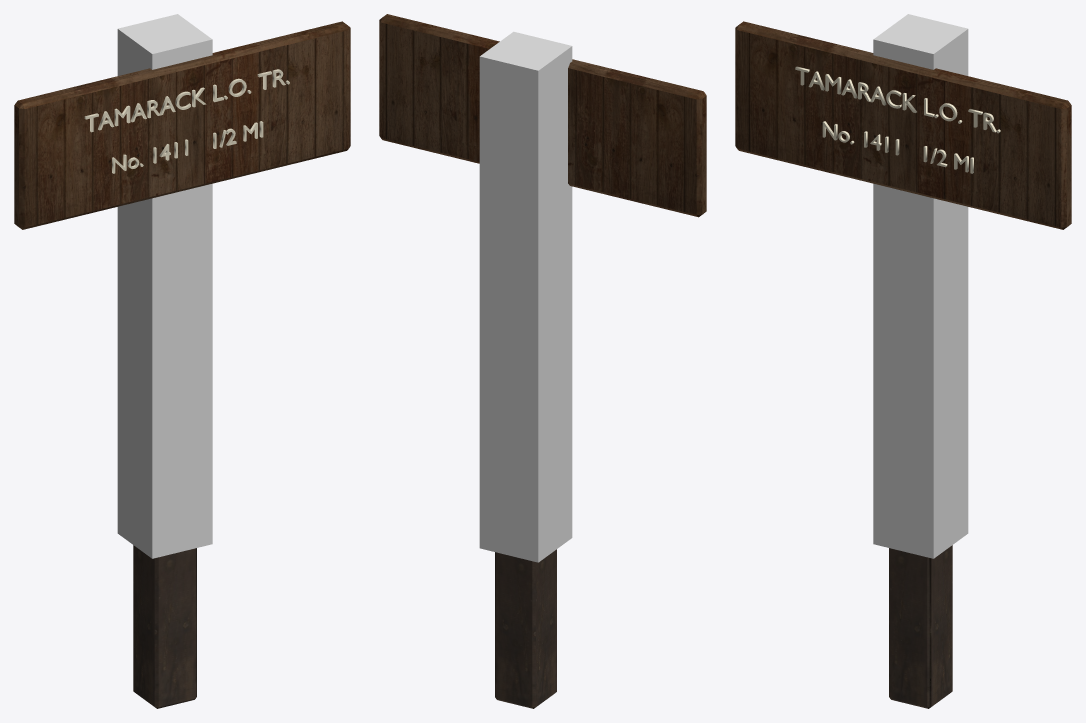
Rendered from prop_trail_sign.glb.
The picture shows the model from 3 angles, left to right: view 1: azimuth 30°, elevation 25°; view 2: azimuth 150°, elevation 25°; view 3: azimuth 330°, elevation 25°; orthographic projection. The views are drawn at different scales.
Parts seen in each view (by area): view 1: FL_prop_trail_sign_sign, COL_wall_sign, FL_prop_trail_sign_timber, FL_txt_TAMARACK, FL_txt_No. 1411; view 2: COL_wall_sign, FL_prop_trail_sign_sign, FL_prop_trail_sign_timber; view 3: FL_prop_trail_sign_sign, COL_wall_sign, FL_prop_trail_sign_timber, FL_txt_TAMARACK, FL_txt_No. 1411.
Part boxes in pixels (x1,y1,x2,y2): FL_prop_trail_sign_sign: [14, 21, 350, 229]; COL_wall_sign: [117, 14, 212, 558]; FL_prop_trail_sign_timber: [133, 545, 196, 708]; FL_txt_TAMARACK: [84, 69, 289, 132]; FL_txt_No. 1411: [112, 121, 263, 173]; COL_wall_sign: [479, 31, 572, 562]; FL_prop_trail_sign_sign: [379, 14, 706, 217]; FL_prop_trail_sign_timber: [495, 549, 556, 708]; FL_prop_trail_sign_sign: [735, 21, 1071, 229]; COL_wall_sign: [873, 14, 968, 558]; FL_prop_trail_sign_timber: [889, 545, 952, 708]; FL_txt_TAMARACK: [795, 66, 1000, 133]; FL_txt_No. 1411: [822, 121, 973, 173].
Size of the model in its own units: 1.1 by 2.1 by 0.234.
Materials: 3 (2 with a texture image).
